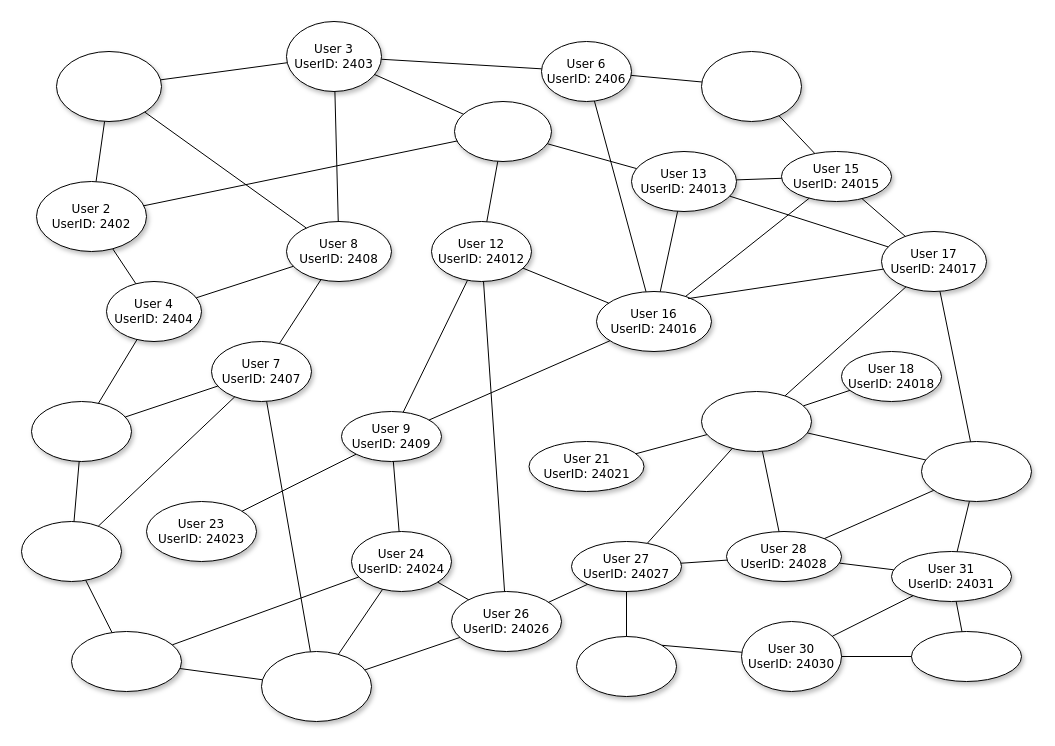
The diagram is 1055 pixels wide and 746 high, and some of its shapes have lost their labels. The shapes that lost their labels are listed below. From the top down, each one's centre as x and y in pixels, then its label:
pixel 110 87: User 1 UserID: 2401
pixel 752 87: User 14 UserID: 24014
pixel 504 132: User 5 UserID: 2405
pixel 82 432: User 10 UserID: 24010
pixel 757 422: User 20 UserID: 24020
pixel 977 472: User 19 UserID: 24019
pixel 72 552: User 11 UserID: 24011
pixel 127 662: User 22 UserID: 24022
pixel 627 668: User 29 UserID: 24029
pixel 967 657: User 32 UserID: 24032
pixel 317 687: User 25 UserID: 24025
